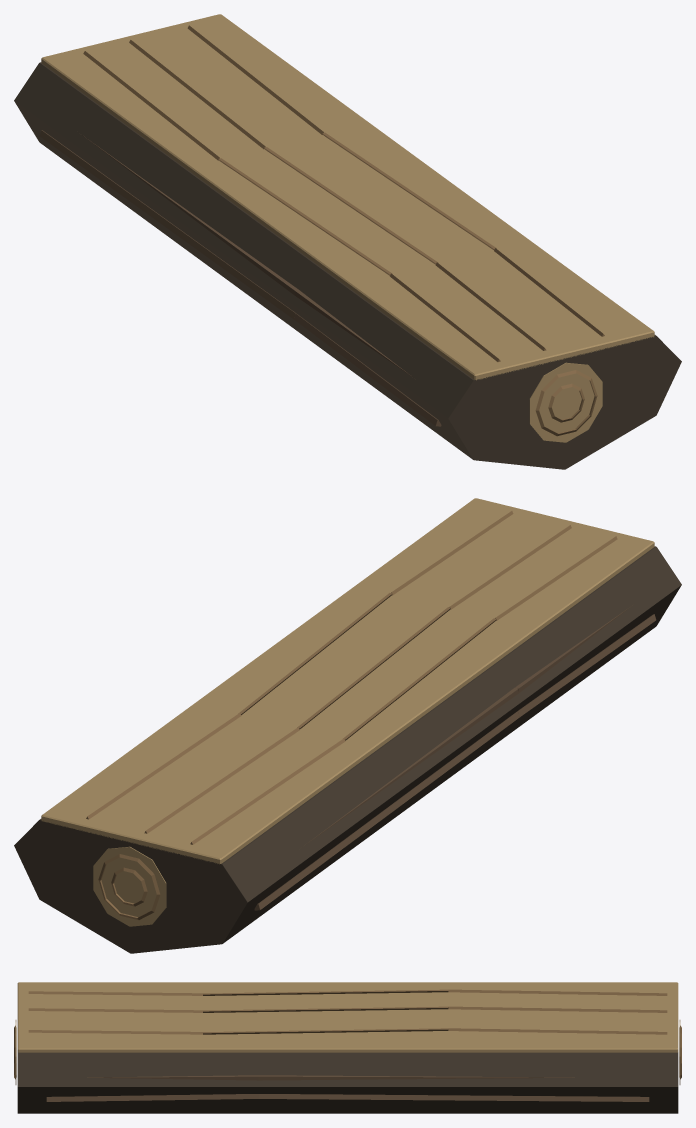
File: log_bridge.glb
3 views of the same model, one above another, from view 1: azimuth 30°, elevation 25°; view 2: azimuth 150°, elevation 25°; view 3: azimuth 270°, elevation 25° (orthographic). The views are drawn at different scales.
Parts seen in each view (by area): view 1: geometry; view 2: geometry; view 3: geometry.
Boxes of the visible parts, bbox=[...] form: geometry: bbox=[14, 14, 681, 469]; geometry: bbox=[14, 498, 681, 953]; geometry: bbox=[14, 982, 681, 1113].
Bounding box in the file's own units: 0.92 × 0.452 × 2.99.
